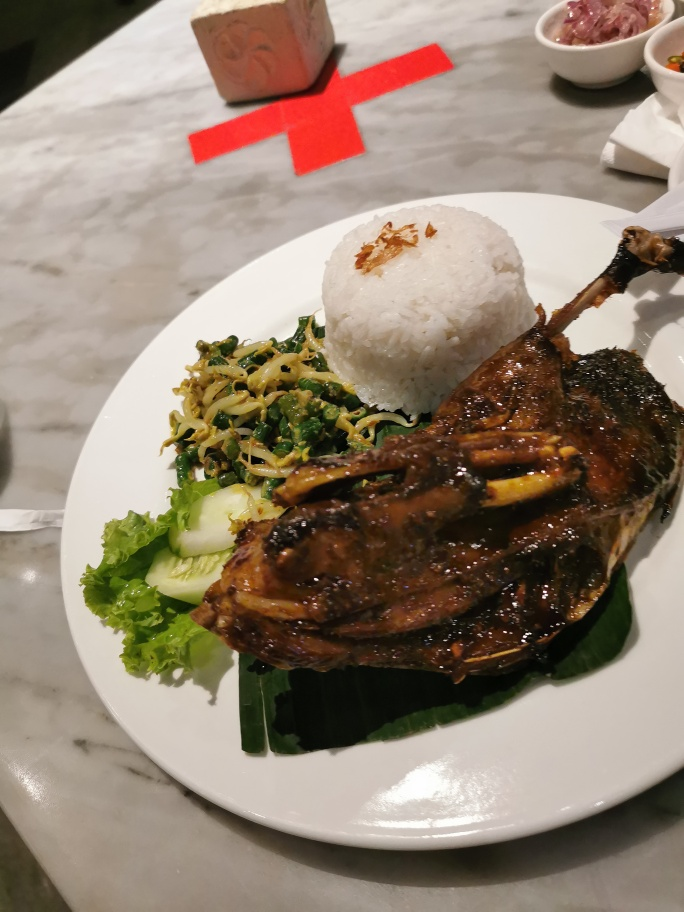bebek bakar: (199, 220, 684, 657)
nasi putih: (311, 186, 543, 401)
